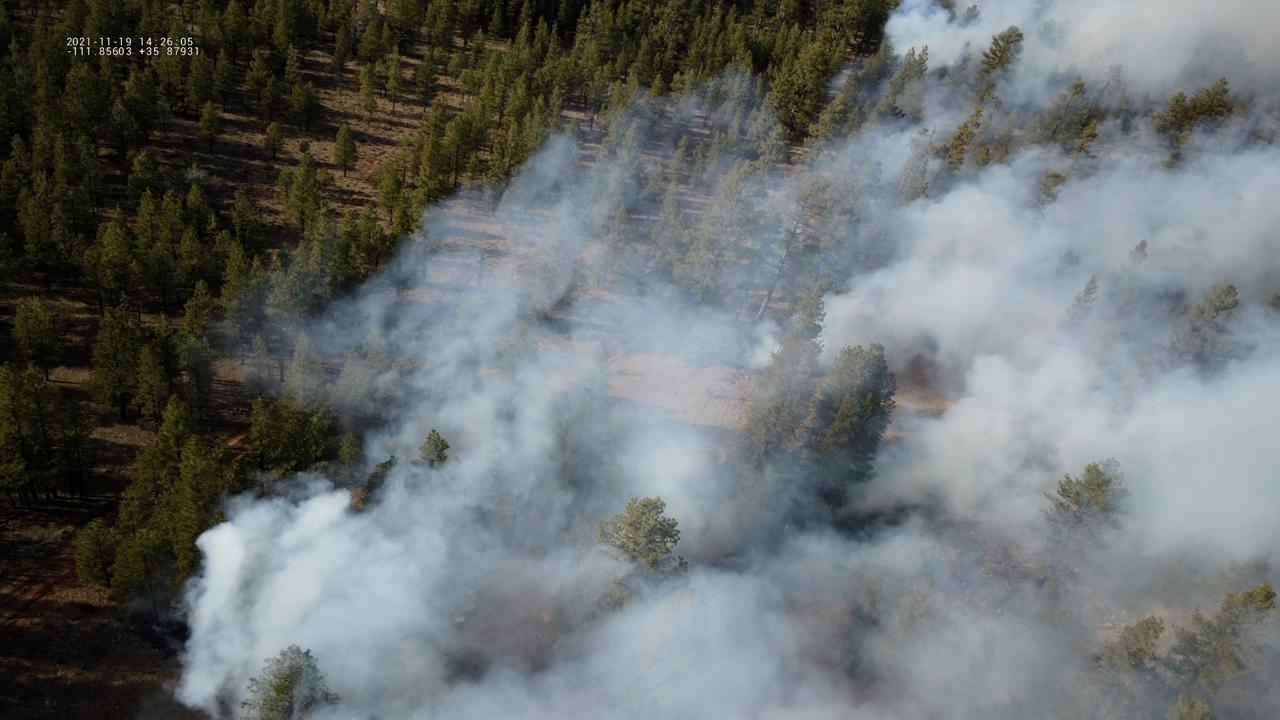smoke: (158, 0, 1280, 720)
